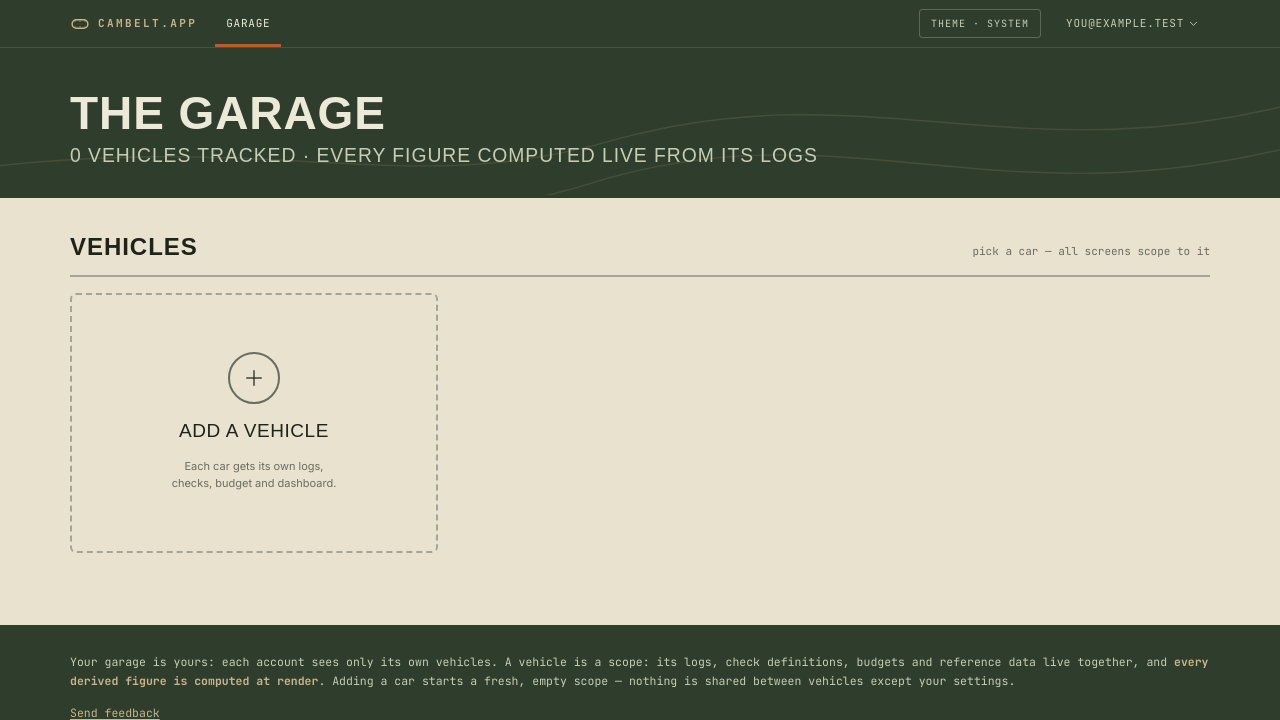
Test: the add-vehicle sheet › refuses to submit without the fields the API needs
The width and height of the screenshot is (1280, 720).
Click the button "Add a vehicle". click: (254, 422)
box: [70,292,438,552]
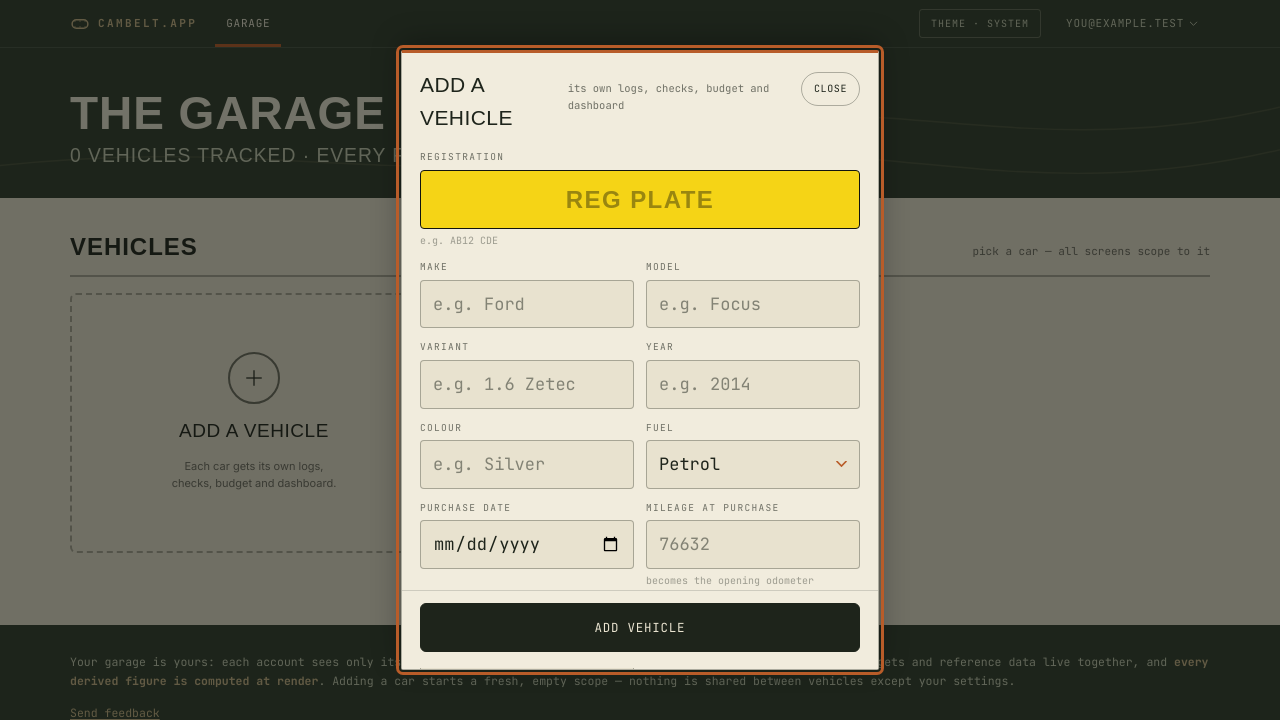
Click the button "Add vehicle". click: (640, 628)
box: [420,603,860,653]
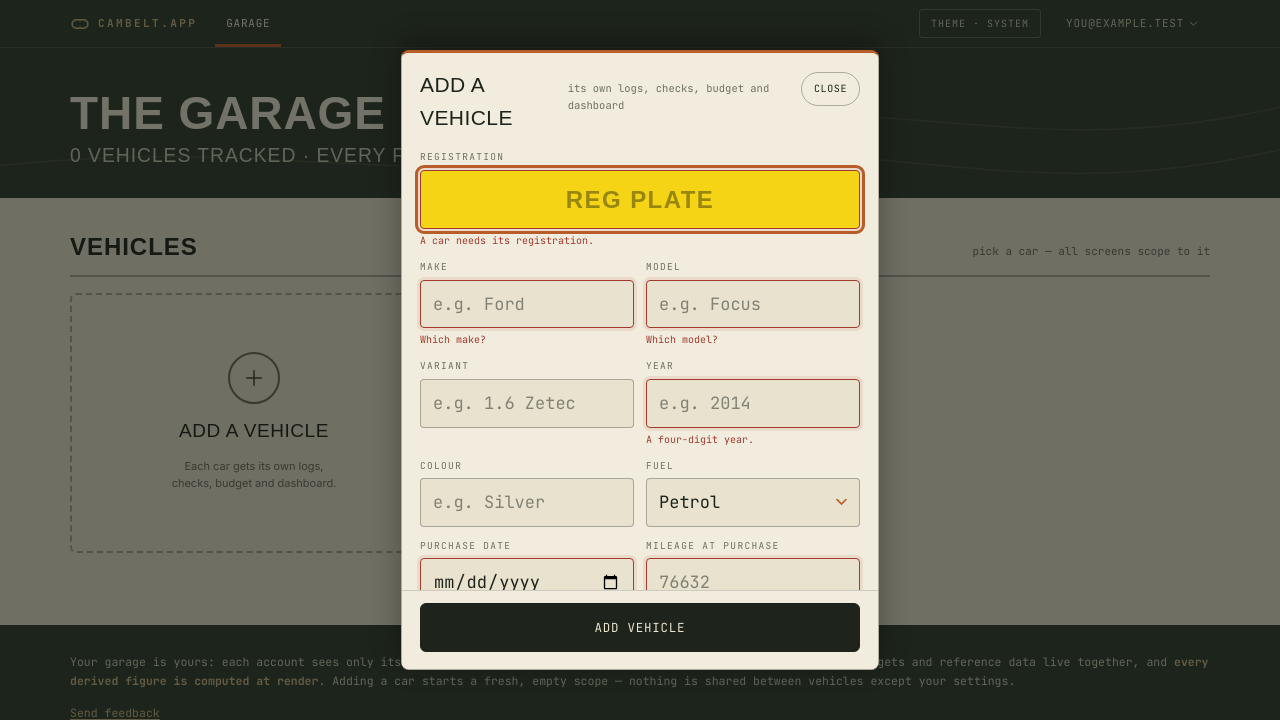
Now the text "A car needs its registration." is shown, box [420,234,594,247]
Now the text "Which make?" is shown, box [420,334,486,346]
